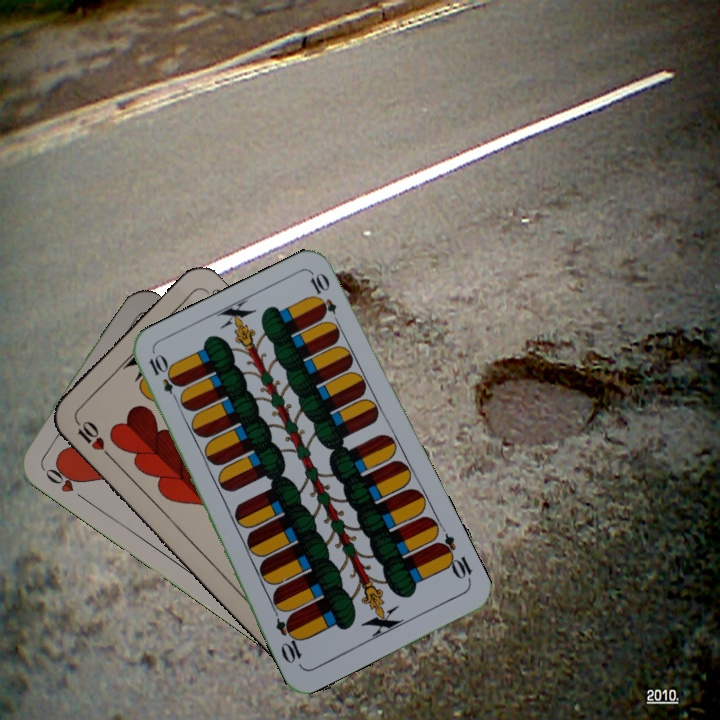E10: (432, 530, 475, 585), (144, 350, 184, 407)
H10: (70, 414, 115, 462)
HO: (37, 459, 88, 503)
